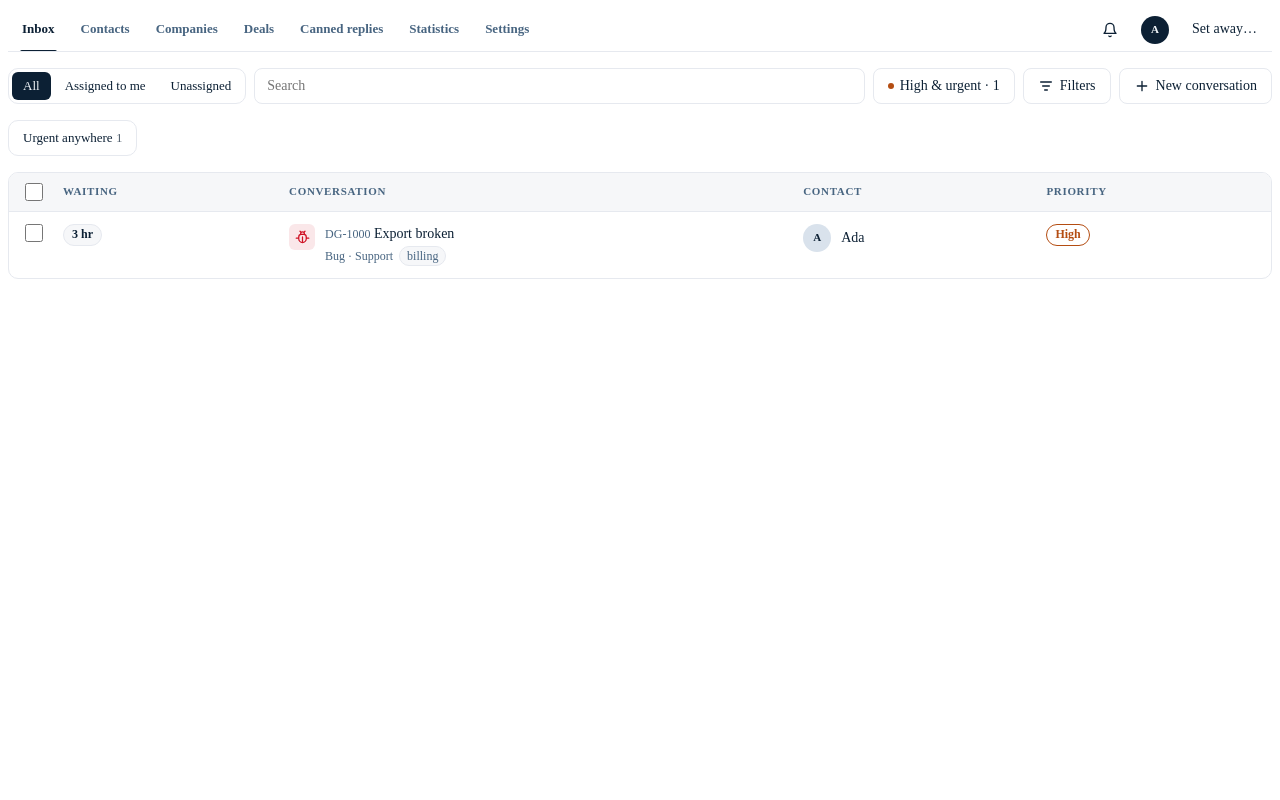
Test: HelpdeskAdmin › shows saved views as tabs under the assignee tabs, and keeps the save link in the tray
Expected: the button "Urgent anywhere 1" is shown, [12,124,133,152]
Click the button "Unassigned": (201, 86) [160,72,242,100]
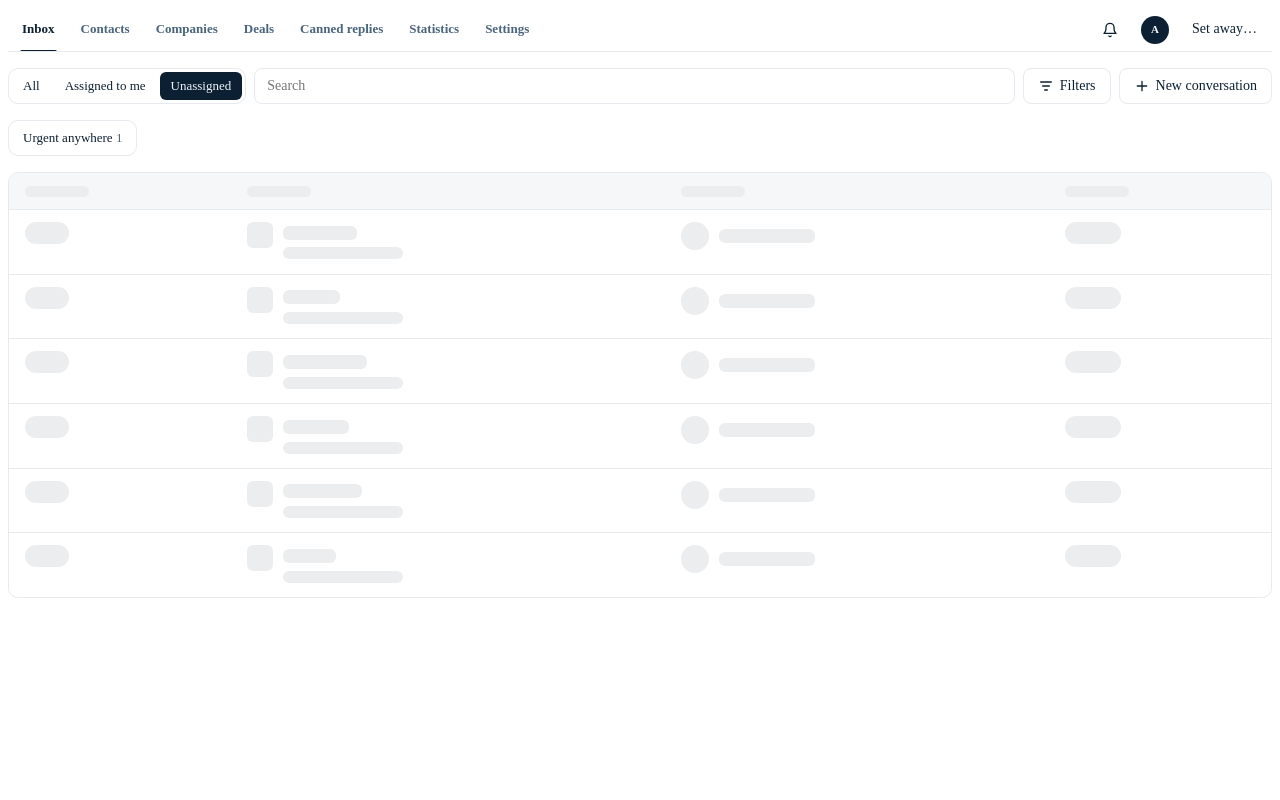
Expected: the button "Save as view" is not shown
Click the button "Filters": (1067, 86) [1023,68,1111,104]
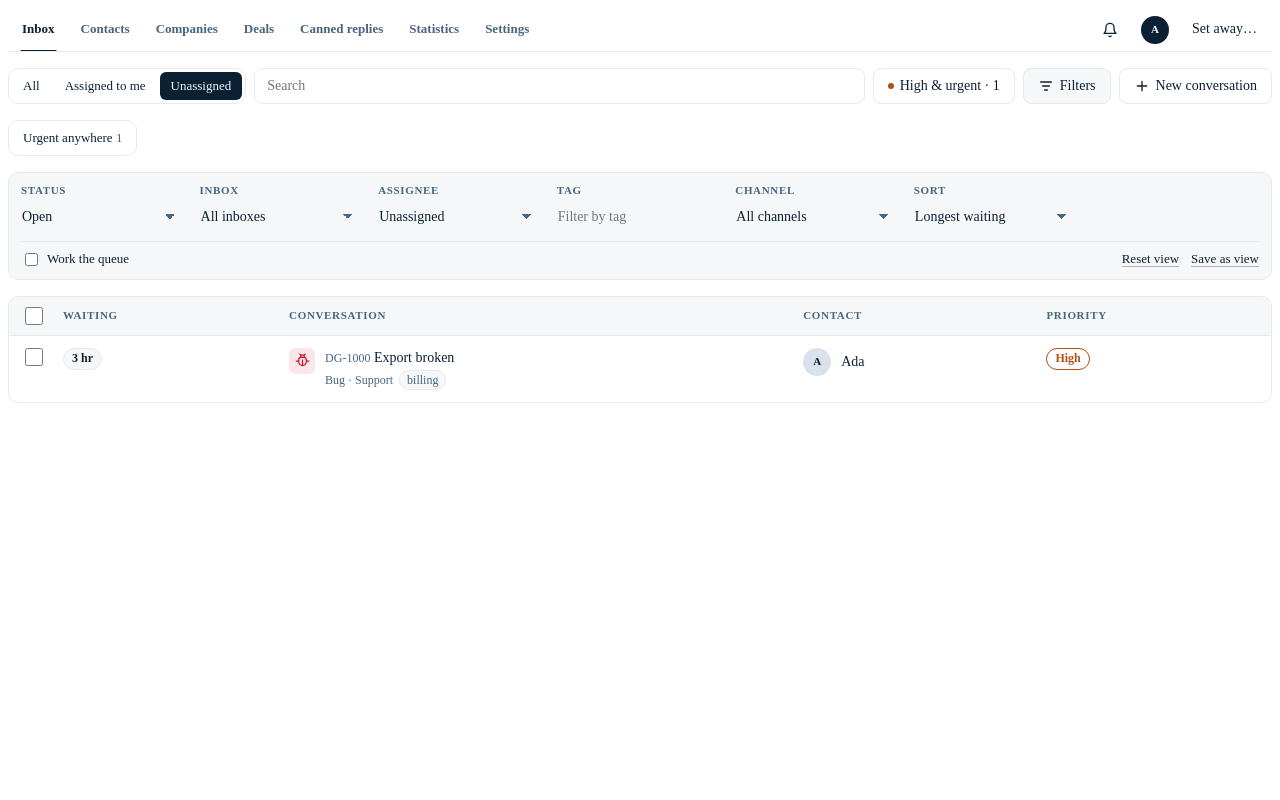
Result: the element "Save as view" is shown at [21,241,1259,269]
